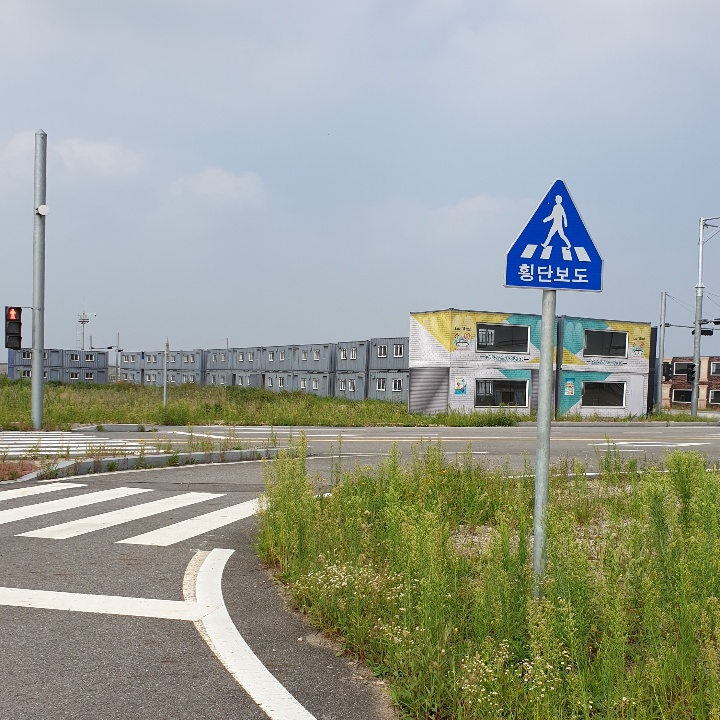cross: (536, 186, 579, 252)
